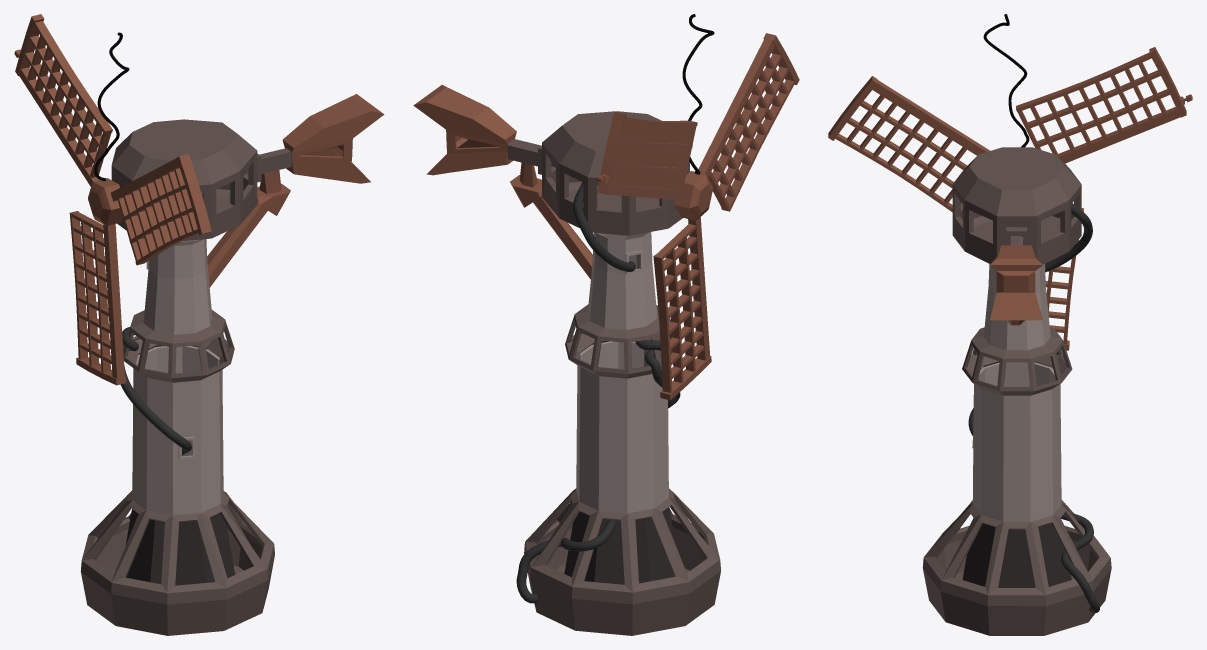
File: windmillgood.fbx
3 views of the same model, side by side, from view 1: azimuth 30°, elevation 25°; view 2: azimuth 150°, elevation 25°; view 3: azimuth 270°, elevation 25° (orthographic). The views are drawn at different scales.
Visible parts, largest first — view 1: Cube.025, Cylinder, Cylinder.007, Cylinder.001, Cylinder.004, Cylinder.005, Cylinder.006, Cylinder.003, Cube, Cube.014; view 2: Cube.025, Cylinder, Cylinder.007, Cylinder.001, Cylinder.004, Cylinder.005, Cylinder.006, Cube, Cylinder.003, Cube.014; view 3: Cylinder, Cube.025, Cylinder.007, Cylinder.001, Cylinder.005, Cylinder.006, Cylinder.004, Cube, Cube.014.
Part boxes in pixels (x1=…): Cube.025: x1=14, y1=14, x2=211, y2=385; Cylinder: x1=132, y1=239, x2=223, y2=515; Cylinder.007: x1=80, y1=490, x2=274, y2=635; Cylinder.001: x1=111, y1=119, x2=291, y2=240; Cylinder.004: x1=282, y1=94, x2=384, y2=183; Cylinder.005: x1=126, y1=509, x2=235, y2=585; Cylinder.006: x1=123, y1=310, x2=234, y2=382; Cylinder.003: x1=207, y1=170, x2=290, y2=287; Cube: x1=120, y1=326, x2=191, y2=455; Cube.014: x1=94, y1=32, x2=129, y2=181; Cube.025: x1=596, y1=33, x2=799, y2=400; Cylinder: x1=576, y1=232, x2=668, y2=513; Cylinder.007: x1=524, y1=488, x2=720, y2=635; Cylinder.001: x1=507, y1=111, x2=689, y2=235; Cylinder.004: x1=413, y1=85, x2=516, y2=175; Cylinder.005: x1=564, y1=507, x2=675, y2=584; Cylinder.006: x1=565, y1=304, x2=672, y2=378; Cube: x1=516, y1=182, x2=680, y2=603; Cylinder.003: x1=510, y1=162, x2=592, y2=279; Cube.014: x1=682, y1=14, x2=714, y2=174; Cylinder: x1=972, y1=264, x2=1061, y2=521; Cube.025: x1=828, y1=47, x2=1192, y2=350; Cylinder.007: x1=922, y1=500, x2=1111, y2=635; Cylinder.001: x1=952, y1=147, x2=1081, y2=264; Cylinder.005: x1=962, y1=518, x2=1071, y2=587; Cylinder.006: x1=962, y1=327, x2=1072, y2=395; Cylinder.004: x1=990, y1=245, x2=1042, y2=320; Cube: x1=968, y1=203, x2=1099, y2=612; Cube.014: x1=983, y1=14, x2=1029, y2=147.
Size of the model in its own units: 244 by 202 by 412.
